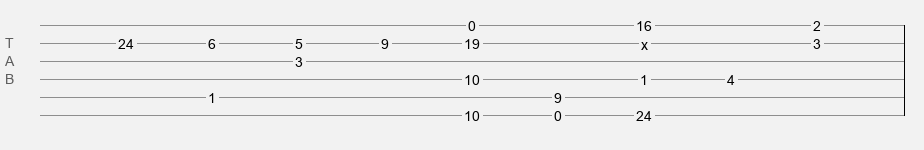0: (468, 18, 476, 28), (554, 108, 562, 118)
1: (208, 90, 216, 100), (640, 72, 648, 82)
10: (464, 72, 480, 82), (464, 108, 480, 118)
16: (636, 18, 652, 28)
19: (464, 36, 480, 46)
2: (813, 18, 821, 28)
24: (118, 36, 134, 46), (636, 108, 652, 118)
3: (295, 54, 303, 64), (813, 36, 821, 46)
4: (727, 72, 735, 82)
5: (295, 36, 303, 46)
6: (208, 36, 216, 46)
9: (381, 36, 389, 46), (554, 90, 562, 100)
x: (641, 37, 648, 45)
